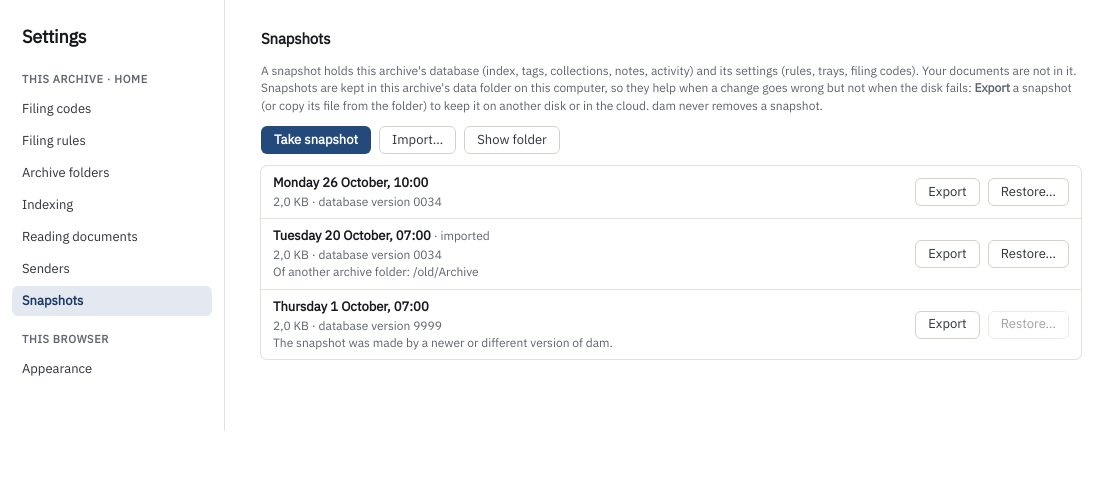
Test: Settings › Snapshots lists the snapshots, takes one, and offers each for export
This screenshot has width=1099, height=479.
Expected: the text "· imported" is shown, left=431, top=228, right=490, bottom=243
Expected: the text "Of another archive folder: /old/Archive" is shown, left=273, top=263, right=490, bottom=281
Click the button "Take snapshot".
click(316, 140)  # box left=261, top=126, right=371, bottom=154
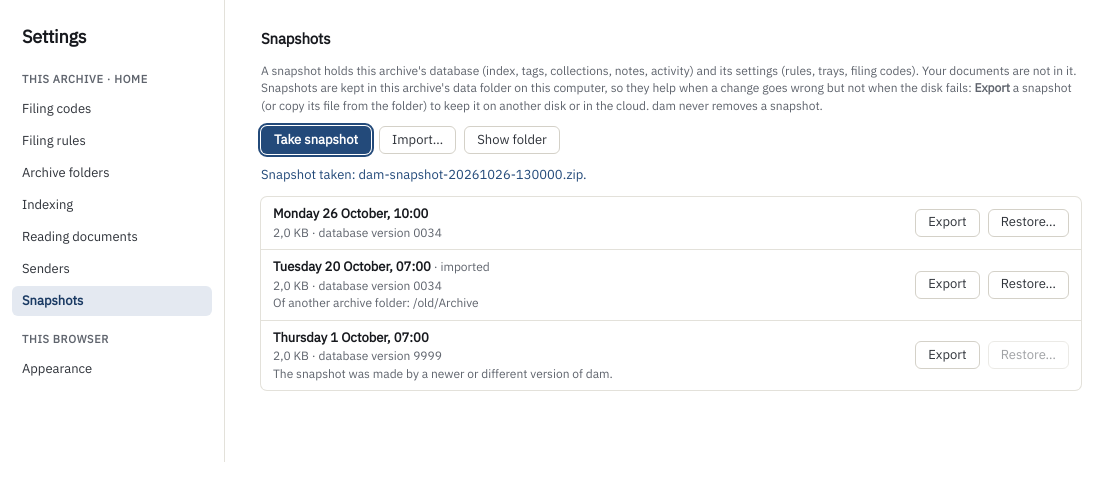
Result: the text "Snapshot taken: dam-snapshot-20261026-130000.zip." is shown at left=261, top=166, right=586, bottom=183
